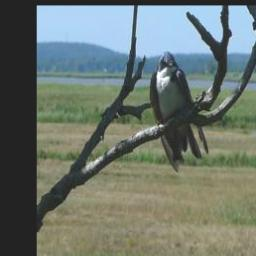Swallow: (147, 48, 211, 174)
